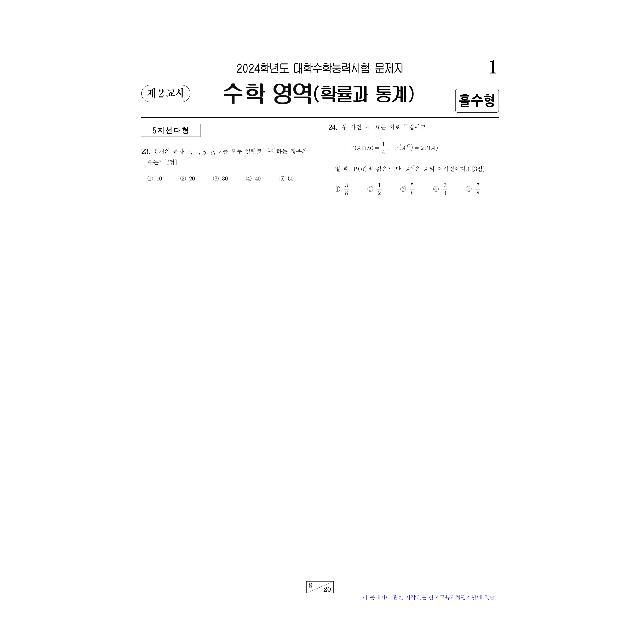multiple: (323, 120, 501, 206), (136, 141, 316, 189)
